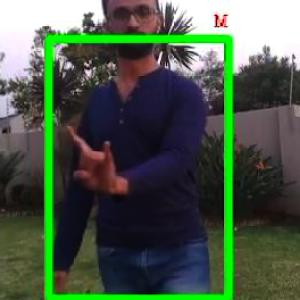takeoff-hand: (60, 118, 120, 200)
